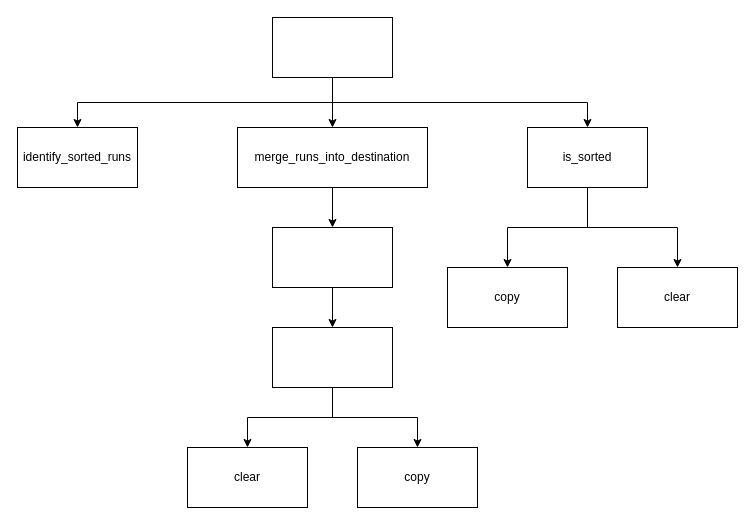
Some shapes in this 755 by 525 pixel diagram are drawn without their labels. Here are the shapes that lost their labels. From the top down, the centre of each, then its label:
the point at 332,47: sub_list_sort
the point at 332,257: find_run_with_ smallest_element
the point at 332,357: remove_first_element
